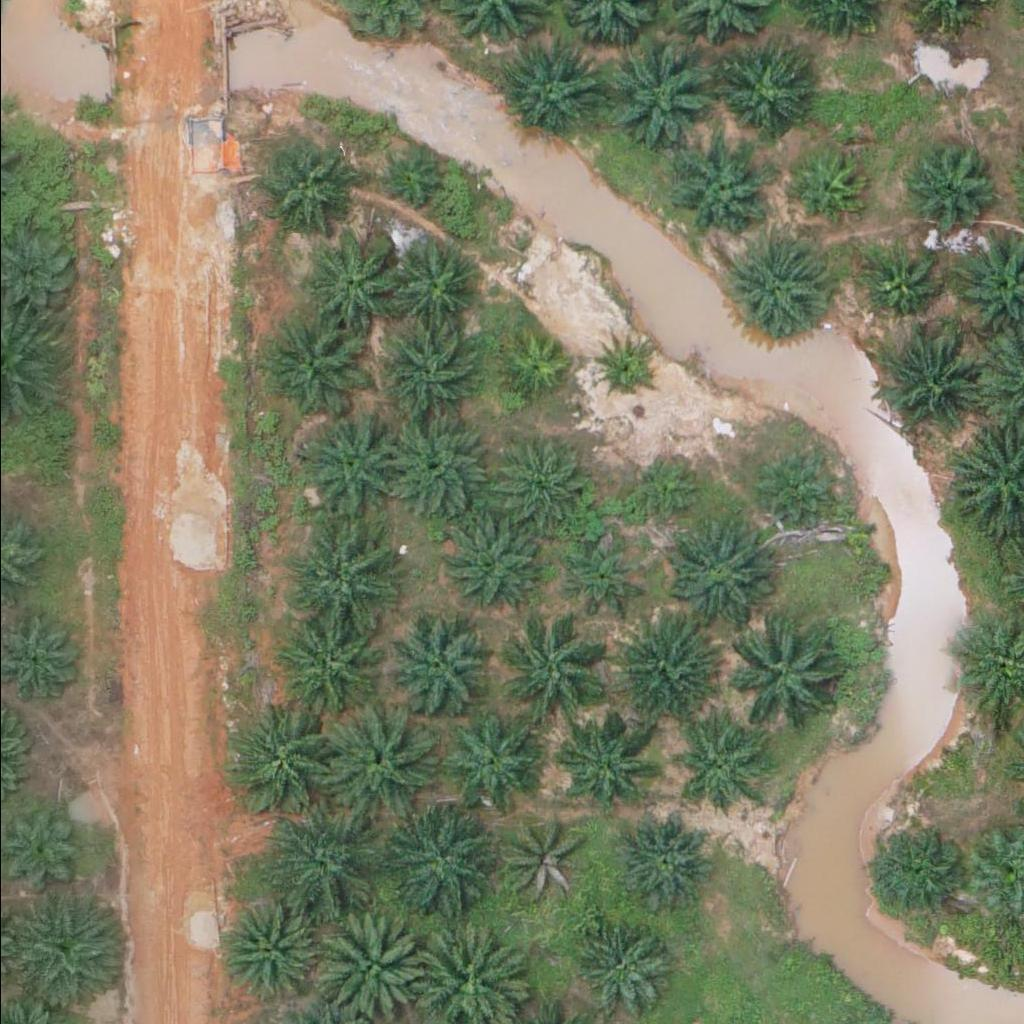Kelapa_Sawit: (221, 705, 334, 818), (731, 618, 844, 731), (658, 512, 771, 625), (380, 410, 493, 523), (292, 407, 405, 520), (253, 309, 366, 422), (607, 38, 720, 151), (13, 893, 127, 1005), (499, 617, 613, 729), (282, 515, 396, 627), (317, 908, 430, 1020), (262, 810, 375, 922), (383, 806, 496, 918), (321, 704, 434, 816), (264, 605, 377, 717), (603, 608, 716, 720), (569, 914, 670, 1014), (549, 710, 650, 810), (387, 612, 488, 712), (436, 512, 537, 612), (370, 320, 471, 420), (379, 235, 480, 335), (498, 37, 599, 137), (253, 137, 354, 237), (218, 899, 318, 999), (868, 820, 968, 920), (615, 811, 715, 911), (446, 710, 546, 810), (882, 327, 982, 427), (722, 237, 822, 337), (489, 435, 589, 535), (300, 230, 400, 330), (669, 143, 769, 243), (555, 535, 643, 623), (747, 440, 835, 528), (909, 137, 997, 225), (714, 48, 802, 136), (496, 820, 584, 907), (666, 722, 754, 809), (790, 149, 866, 224), (865, 244, 940, 319), (629, 452, 704, 527), (491, 328, 566, 403), (367, 143, 442, 218), (590, 337, 653, 400)
